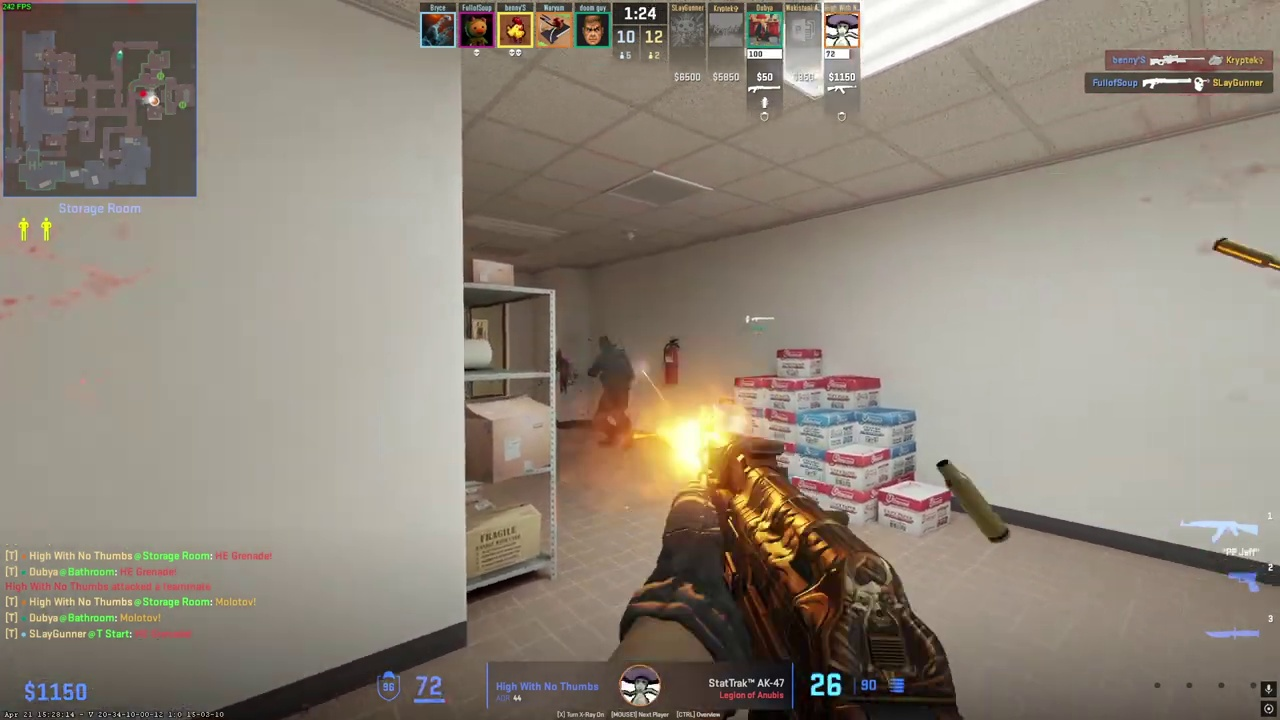CT: (590, 335, 633, 445)
